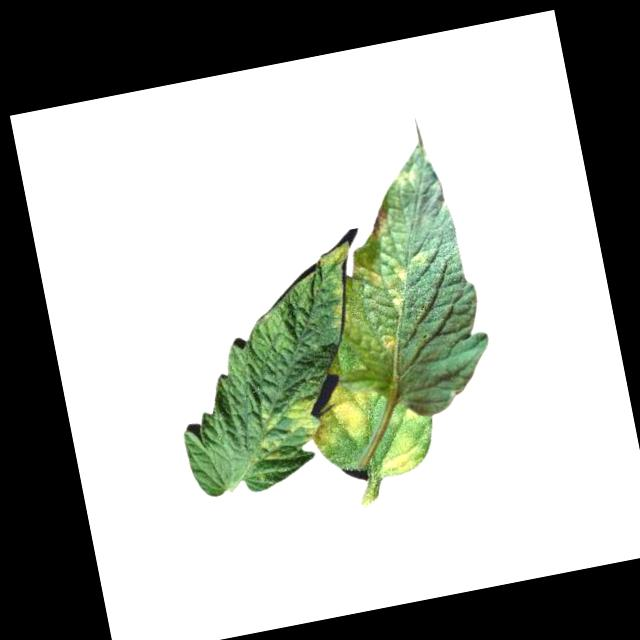Leaf_Mold: (306, 373, 383, 444), (253, 396, 323, 448), (363, 258, 418, 321), (371, 431, 423, 479), (362, 197, 393, 243), (376, 330, 398, 354)
